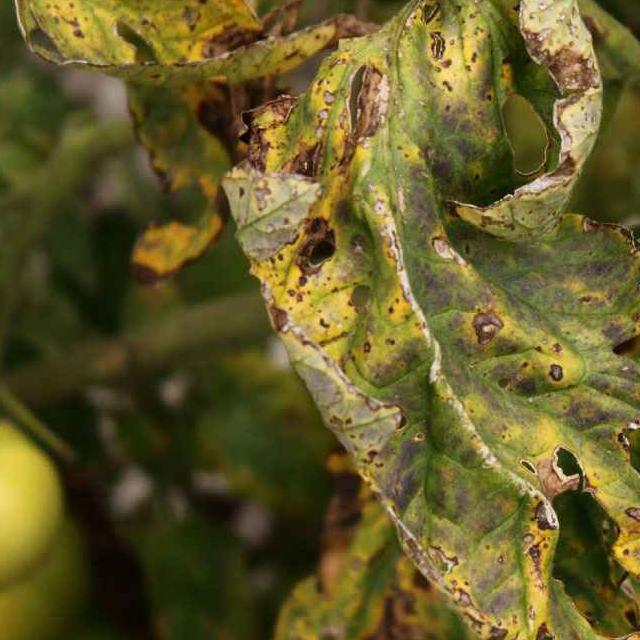Tomato Septoria leaf spot: (218, 0, 640, 640), (0, 0, 304, 86)
